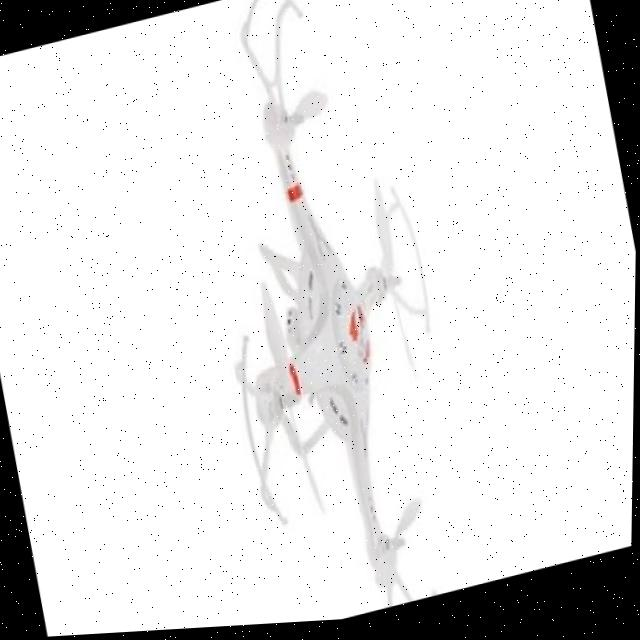drones: (64, 0, 501, 637)
